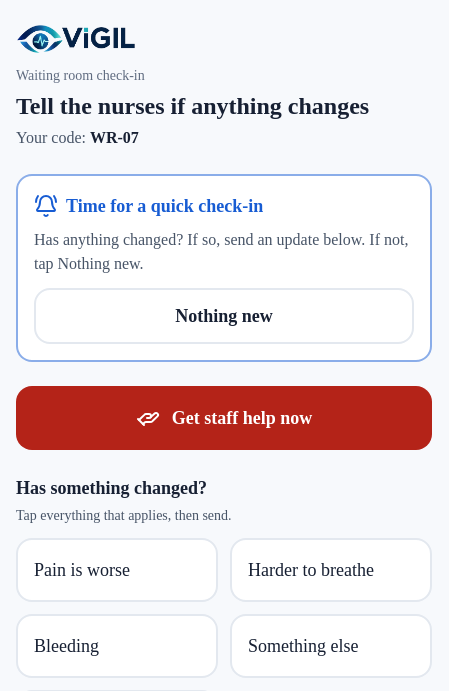
CheckinView › reminders › plays a chime only after the patient turns sound on
Expected: the text "Time for a quick check-in" is shown, [34,194,263,218]
Click the button "Nothing new".
click(224, 316)  # box [34,288,414,344]
(page scrolled)
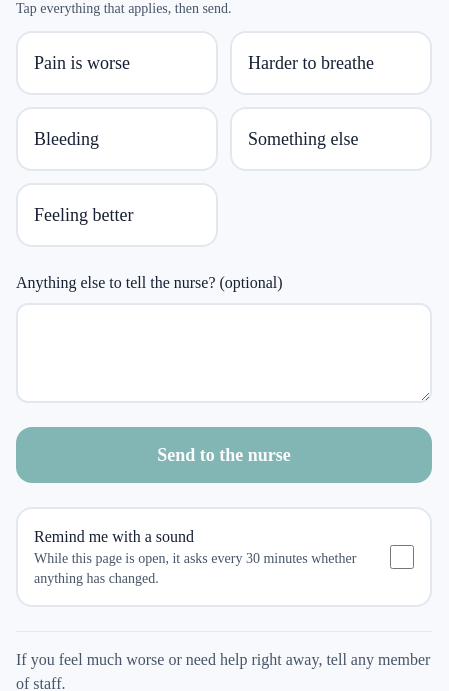
Click the switch labelled "Remind me with a sound".
click(402, 557)  # box [390,545,414,569]
(page scrolled)
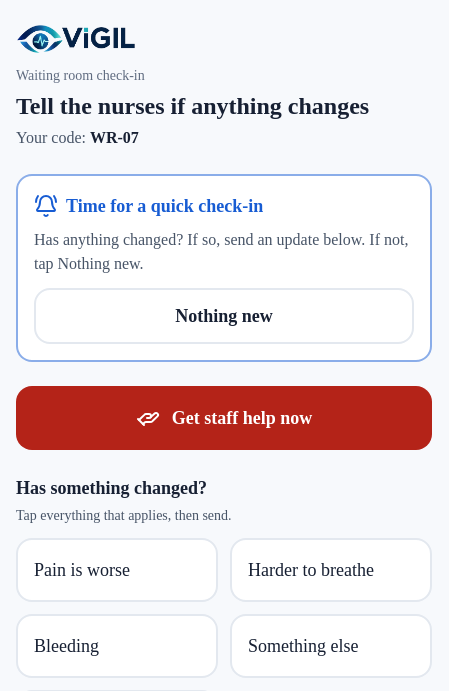
Expected: the text "Time for a quick check-in" is shown, [34,194,263,218]
